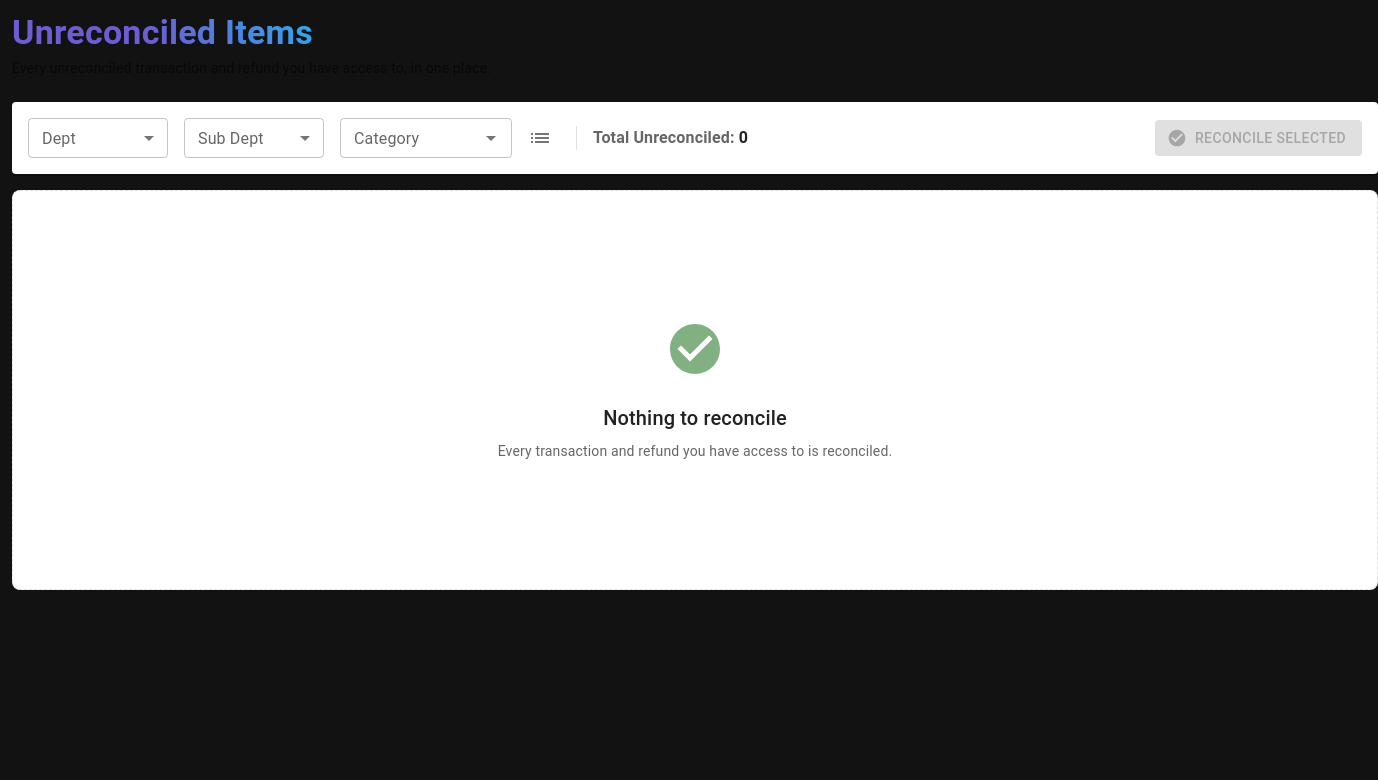
Test: Unreconciled page › only lists departments the caller has access to in the Dept filter
Click the 1st dropdown named "Dept" at x=98, y=138, box [28, 118, 168, 158]
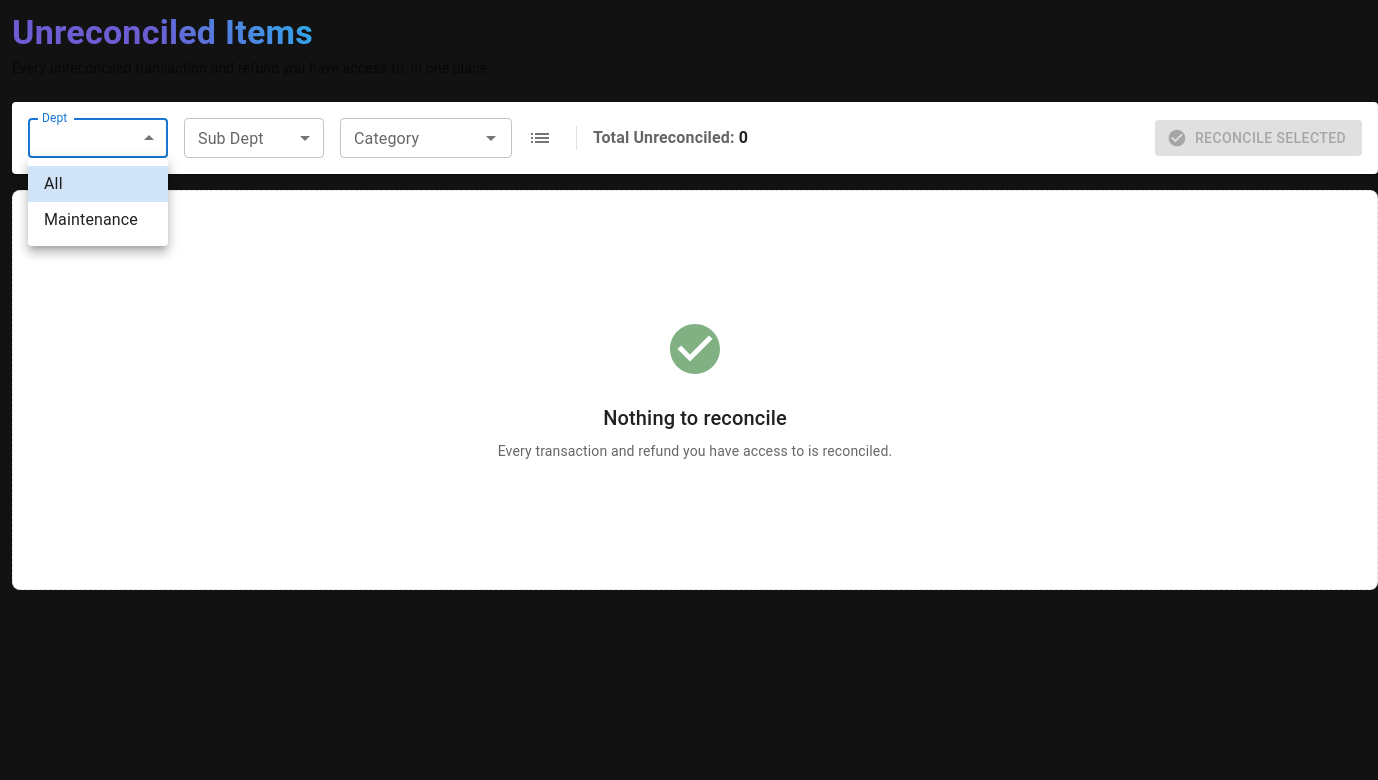
expect the option "Maintenance" is shown: met, box [44, 210, 138, 229]
